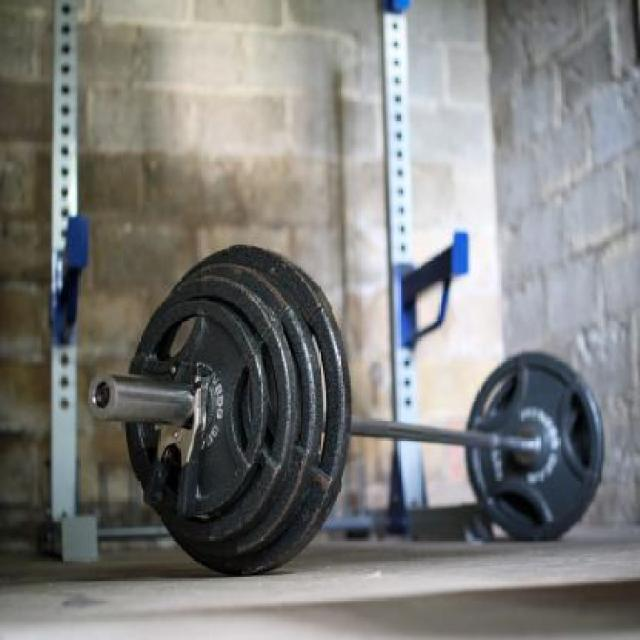Barbell: (82, 363, 126, 425)
